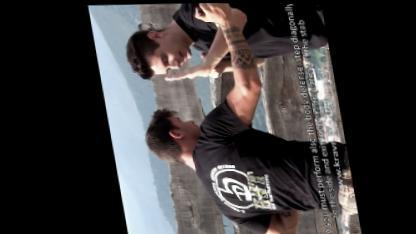knife: (191, 2, 266, 25)
